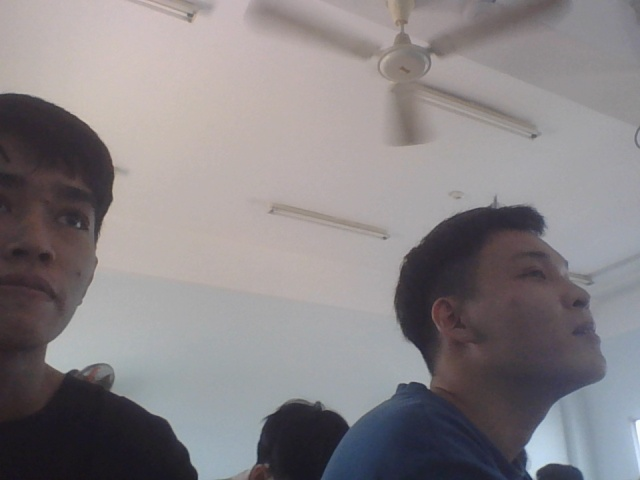real: (448, 176, 599, 390)
